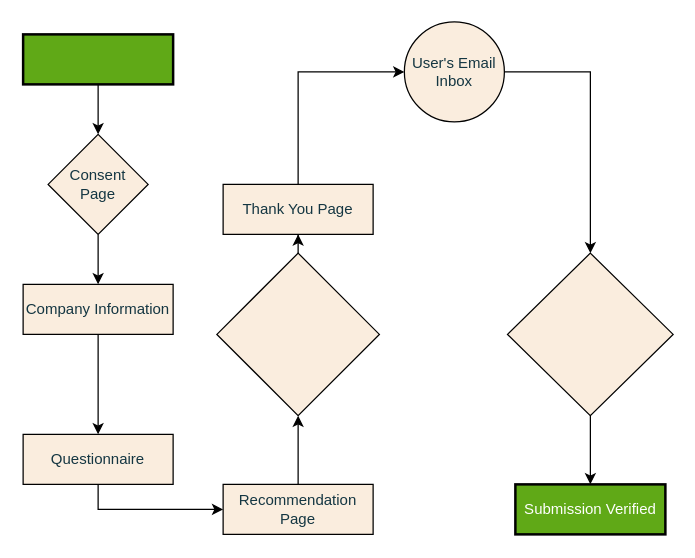
Some shapes in this 695 by 558 pixel diagram are drawn without their labels. The shapes that lost their labels are listed below. From the top down, each one's centre as x and y in pixels, then its label:
At [97,58]: "User Lands on App".
At [297,334]: "Submit & Request Verification".
At [589,334]: "Verification Email".
